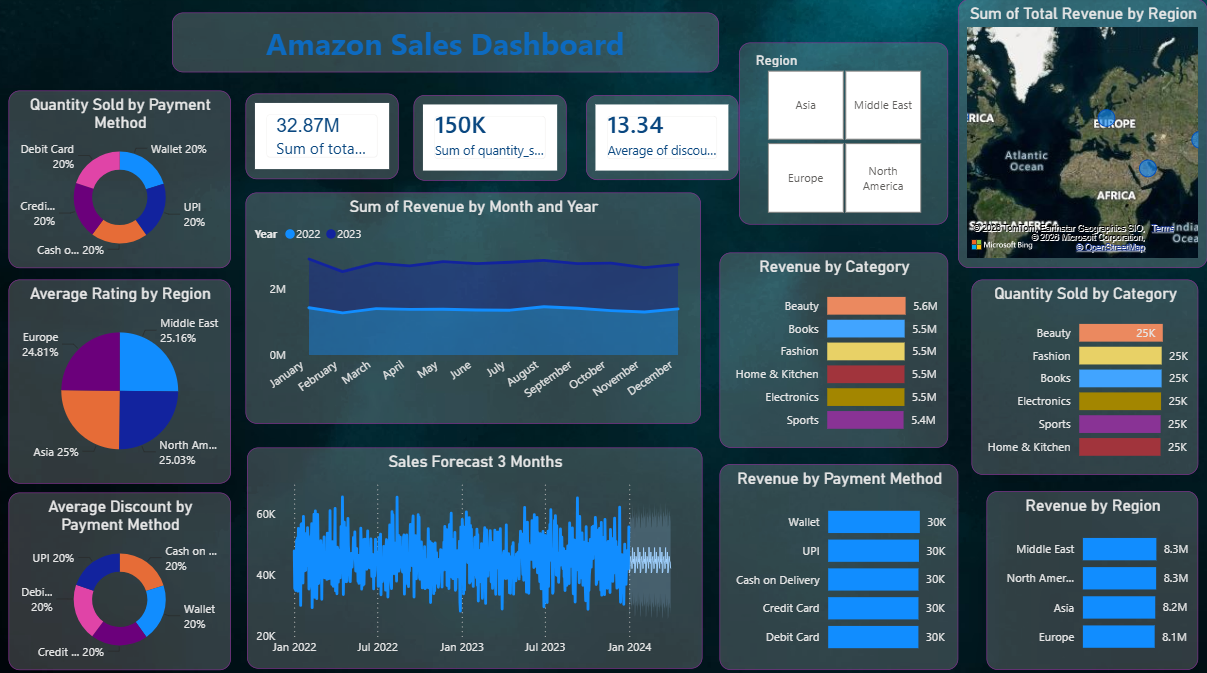

The page's visual inventory and layout, read from the dashboard file:
{"tool":"powerbi","page":{"name":"Page 1","canvas":[1280,720],"ordinal":0},"visuals":[{"type":"clusteredBarChart","title":"Revenue by Category","fields":{"Category":["amazon_sales_dataset.product_category"],"Y":["Sum(amazon_sales_dataset.total_revenue)"]},"box":[763.5,268.8,241.8,206.8],"z":0},{"type":"clusteredBarChart","title":"Revenue by Region","fields":{"Category":["amazon_sales_dataset.customer_region"],"Y":["Sum(amazon_sales_dataset.total_revenue)"]},"box":[1046.6,520.1,224.3,189.3],"z":1000},{"type":"clusteredBarChart","title":"Quantity Sold by Category","fields":{"Category":["amazon_sales_dataset.product_category"],"Y":["Sum(amazon_sales_dataset.quantity_sold)"]},"box":[1030.7,297.4,240.2,206.8],"z":2000},{"type":"clusteredBarChart","title":"Revenue by Payment Method","fields":{"Category":["amazon_sales_dataset.payment_method"],"Y":["Sum(amazon_sales_dataset.quantity_sold)"]},"box":[763.5,491.5,252.9,217.9],"z":3000},{"type":"stackedAreaChart","title":"Sum of Revenue by Month and Year","fields":{"Category":["amazon_sales_dataset.order_date.Variation.Date Hierarchy.Month","amazon_sales_dataset.order_date.Variation.Date Hierarchy.Day"],"Y":["Sum(amazon_sales_dataset.total_revenue)"],"Series":["amazon_sales_dataset.order_date.Variation.Date Hierarchy.Year"]},"box":[262.5,205.2,482,245],"z":4000},{"type":"map","title":"Sum of Total Revenue by Region","fields":{"Category":["amazon_sales_dataset.customer_region"],"Size":["Sum(amazon_sales_dataset.total_revenue)"]},"box":[1016.4,0,264,284.7],"z":5000},{"type":"donutChart","title":"Quantity Sold by Payment Method","fields":{"Category":["amazon_sales_dataset.payment_method"],"Y":["Sum(amazon_sales_dataset.quantity_sold)"]},"box":[11.1,97,235.4,187.7],"z":6000},{"type":"donutChart","title":"Average Discount  by Payment Method","fields":{"Category":["amazon_sales_dataset.payment_method"],"Y":["Avg(amazon_sales_dataset.discount_percent)"]},"box":[11.9,521.9,235,187.5],"z":7000},{"type":"pieChart","title":"Average Rating by Region","fields":{"Category":["amazon_sales_dataset.customer_region"],"Y":["Avg(amazon_sales_dataset.rating)"]},"box":[11.1,297.4,235.4,216.3],"z":8000},{"type":"slicer","fields":{"Values":["amazon_sales_dataset.customer_region"]},"box":[784.2,46.1,221.1,192.5],"z":9000},{"type":"textbox","box":[184.5,14.3,579,63.6],"z":10000},{"type":"cardVisual","fields":{"Data":["Sum(amazon_sales_dataset.total_revenue)"]},"box":[262.5,100.2,162.2,90.7],"z":11000},{"type":"cardVisual","fields":{"Data":["Sum(amazon_sales_dataset.quantity_sold)"]},"box":[439,101.8,162.2,90.7],"z":12000},{"type":"cardVisual","fields":{"Data":["Avg(amazon_sales_dataset.discount_percent)"]},"box":[622.6,101.6,161.3,90.3],"z":13000},{"type":"lineChart","title":"Sales Forecast 3 Months","fields":{"Y":["Sum(amazon_sales_dataset.total_revenue)"],"Category":["amazon_sales_dataset.order_date"]},"box":[262.9,474.2,482.3,233.9],"z":14000}]}

Visuals, with their boxes in screenshot pixels (x1, y1, x2, y2), scaled from the page's 1280x720 canvas onto the 1207x673 screenshot:
"Revenue by Category" clusteredBarChart: [left=720, top=251, right=948, bottom=445]
"Revenue by Region" clusteredBarChart: [left=987, top=486, right=1198, bottom=663]
"Quantity Sold by Category" clusteredBarChart: [left=972, top=278, right=1198, bottom=471]
"Revenue by Payment Method" clusteredBarChart: [left=720, top=459, right=958, bottom=663]
"Sum of Revenue by Month and Year" stackedAreaChart: [left=248, top=192, right=702, bottom=421]
"Sum of Total Revenue by Region" map: [left=958, top=0, right=1206, bottom=266]
"Quantity Sold by Payment Method" donutChart: [left=10, top=91, right=232, bottom=266]
"Average Discount  by Payment Method" donutChart: [left=11, top=488, right=233, bottom=663]
"Average Rating by Region" pieChart: [left=10, top=278, right=232, bottom=480]
slicer - amazon_sales_dataset.customer_region: [left=739, top=43, right=948, bottom=223]
textbox: [left=174, top=13, right=720, bottom=73]
cardVisual - Sum(amazon_sales_dataset.total_revenue): [left=248, top=94, right=400, bottom=178]
cardVisual - Sum(amazon_sales_dataset.quantity_sold): [left=414, top=95, right=567, bottom=180]
cardVisual - Avg(amazon_sales_dataset.discount_percent): [left=587, top=95, right=739, bottom=179]
"Sales Forecast 3 Months" lineChart: [left=248, top=443, right=703, bottom=662]
